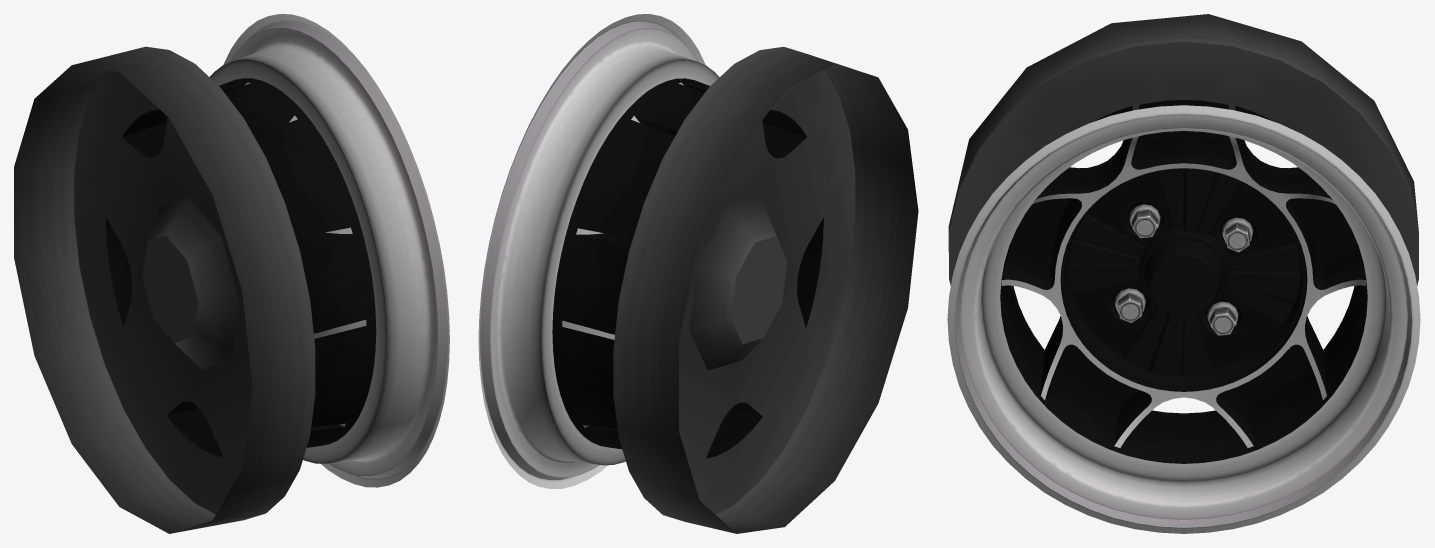
Rendered from wheel8.fbx.
The picture shows the model from 3 angles, left to right: view 1: azimuth 30°, elevation 25°; view 2: azimuth 150°, elevation 25°; view 3: azimuth 270°, elevation 25°; orthographic projection. The views are drawn at different scales.
Parts seen in each view (by area): view 1: ats_classic_wheel_wheel_inner_rim_, wheel_rim, ats_classic_wheel_wheel_rim_; view 2: ats_classic_wheel_wheel_inner_rim_, wheel_rim, ats_classic_wheel_wheel_rim_; view 3: ats_classic_wheel_wheel_rim_, wheel_rim, ats_classic_wheel_wheel_inner_rim_, ats_classic_wheel_wheel_chrome_rim_.
Boxes of the visible parts, box(x1,y1,x2,y2) form: ats_classic_wheel_wheel_inner_rim_: box(14, 46, 315, 533); wheel_rim: box(210, 14, 449, 487); ats_classic_wheel_wheel_rim_: box(105, 22, 376, 456); ats_classic_wheel_wheel_inner_rim_: box(613, 46, 918, 533); wheel_rim: box(478, 14, 719, 488); ats_classic_wheel_wheel_rim_: box(520, 36, 823, 458); ats_classic_wheel_wheel_rim_: box(1000, 99, 1367, 463); wheel_rim: box(947, 105, 1420, 533); ats_classic_wheel_wheel_inner_rim_: box(948, 14, 1418, 285); ats_classic_wheel_wheel_chrome_rim_: box(1114, 204, 1253, 335).
Size of the model in its own units: 0.228 by 0.48 by 0.48.
Materials: 1 (1 with a texture image).
